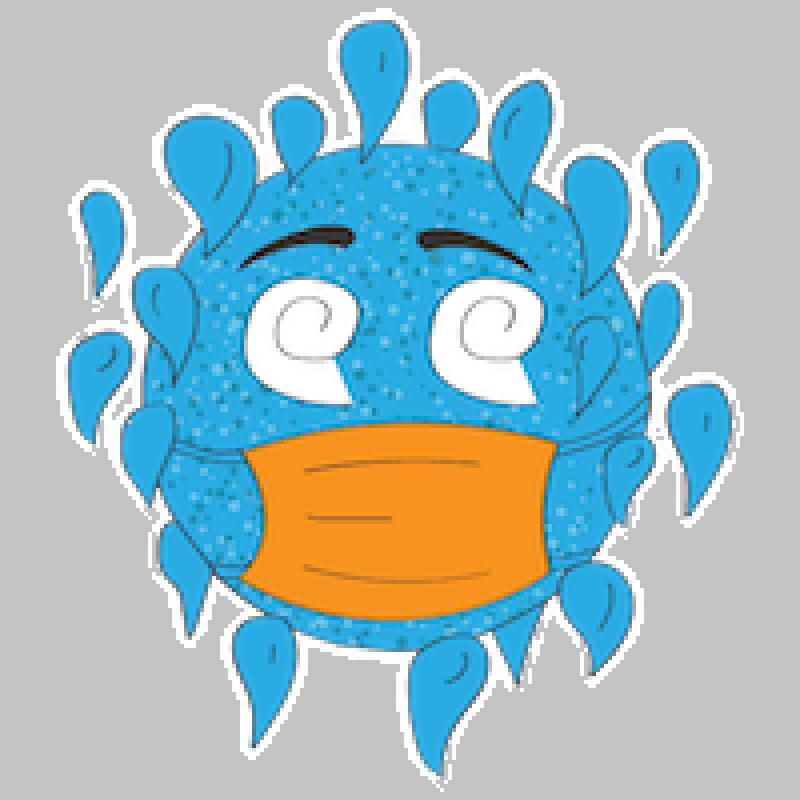paitent: (4, 0, 797, 799)
